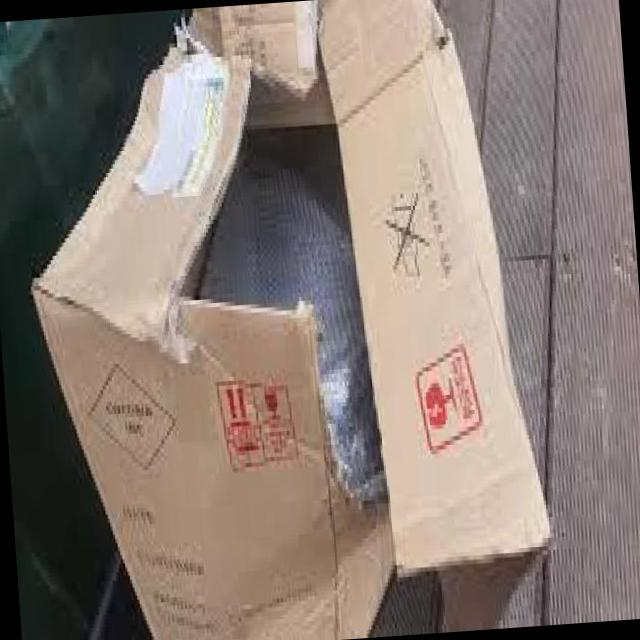box: (30, 1, 552, 640)
crushed: (227, 447, 519, 634)
tear: (179, 55, 400, 504)
